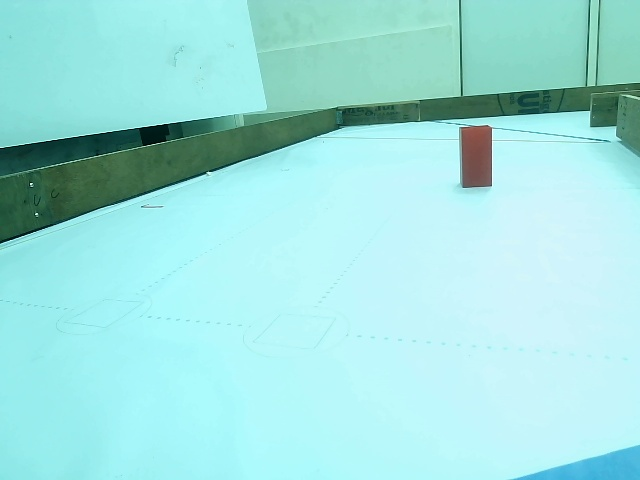red: (461, 129, 491, 186)
